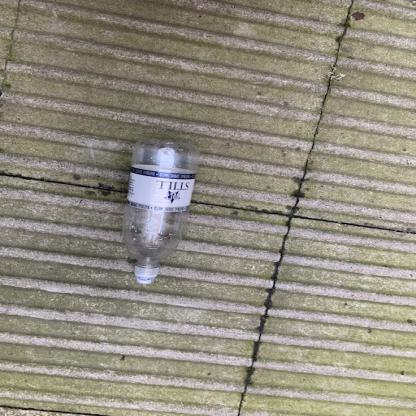trash: (121, 139, 202, 287)
